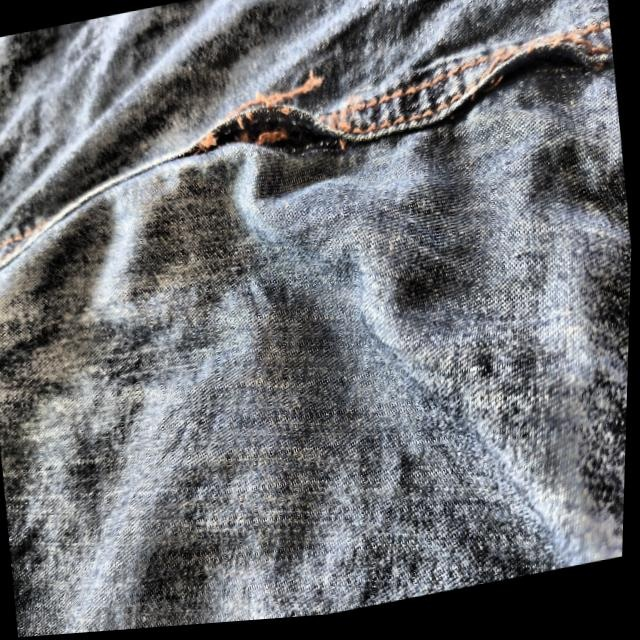seam: (167, 50, 370, 204), (425, 2, 622, 146)
